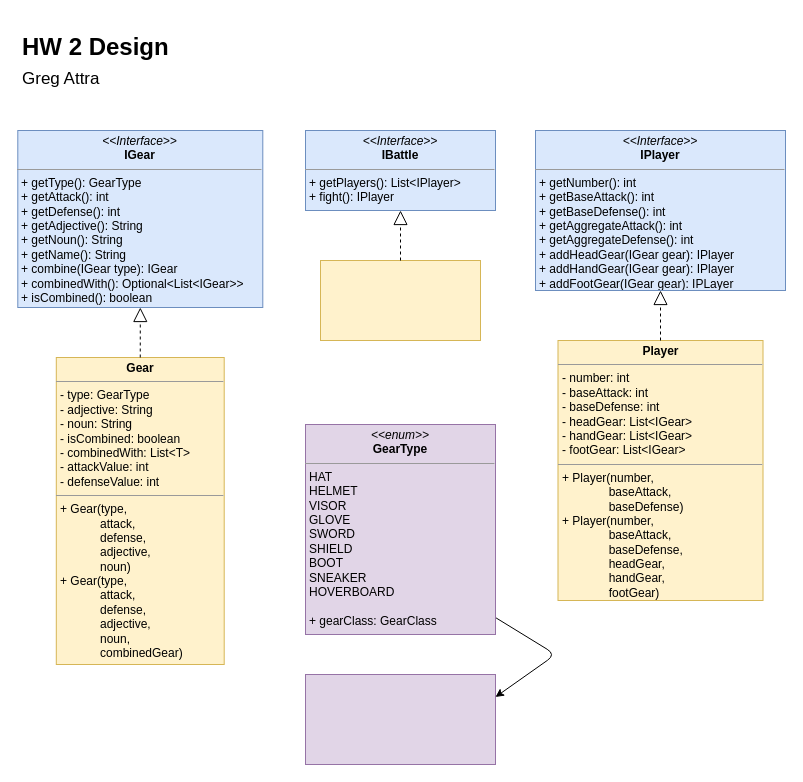
Some shapes in this 803 by 782 pixel diagram are drawn without their labels. The shapes that lost their labels are listed below. From the top down, each one's centre as x and y in pixels, then its label:
[400,300]: Battle - players: List<IPlayer> + Battle(players)
[400,719]: <<enum>> GearClass HEADGEAR HANDGEAR FOOTGEAR
